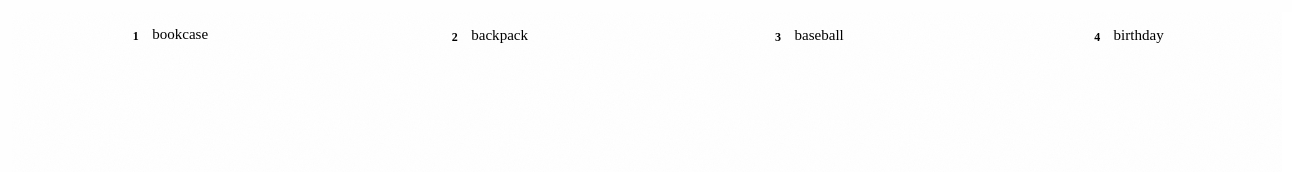
it: Options › marks a wrong pick without revealing or locking the rest
Click the button with class "opt" showing "1 bookcase": click(168, 34) [12, 11, 324, 57]
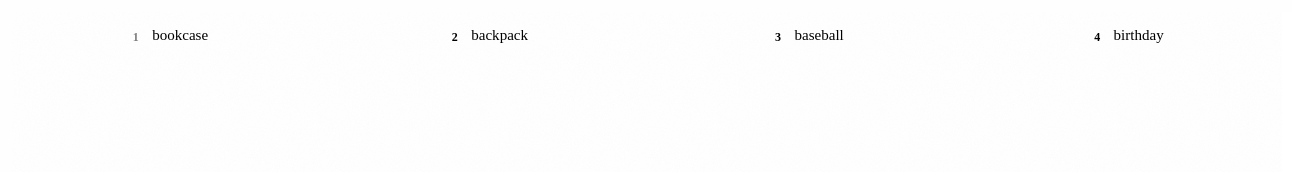
Expected: the button with class "opt" showing "3 baseball" is enabled, [651, 12, 962, 58]
Expected: the button with class "opt" showing "1 bookcase" is enabled, [12, 12, 324, 58]
